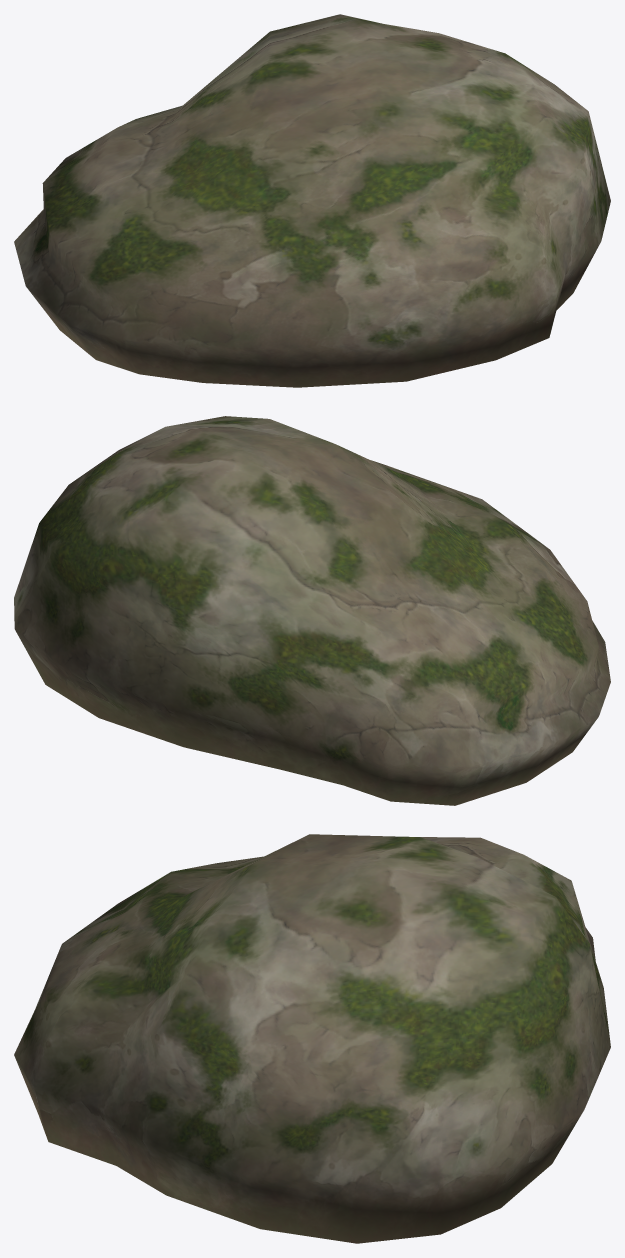
Rendered from stone_Medium_03.FBX.
The picture shows the model from 3 angles, top to bottom: view 1: azimuth 30°, elevation 25°; view 2: azimuth 150°, elevation 25°; view 3: azimuth 270°, elevation 25°; orthographic projection. The views are drawn at different scales.
Visible parts, largest first — view 1: stone_Medium_03; view 2: stone_Medium_03; view 3: stone_Medium_03.
Part boxes in pixels (x1=…): stone_Medium_03: x1=14, y1=14, x2=610, y2=387; stone_Medium_03: x1=14, y1=416, x2=610, y2=805; stone_Medium_03: x1=14, y1=834, x2=610, y2=1243.
Bounding box in the file's own units: 38.7 × 17.86 × 31.79.
